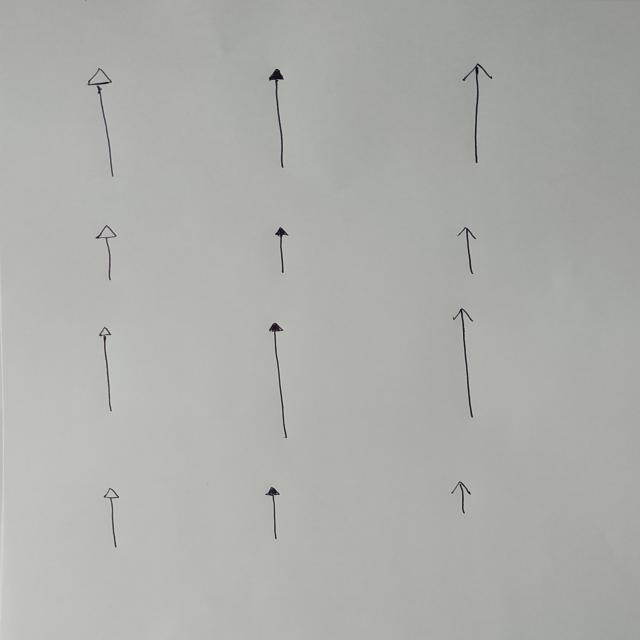arrow_line_up: (84, 64, 124, 180), (458, 62, 496, 166), (450, 306, 482, 421), (266, 321, 296, 442), (263, 66, 293, 169), (95, 324, 120, 414), (92, 222, 122, 282), (455, 225, 483, 277), (101, 486, 122, 550), (263, 484, 282, 542), (272, 224, 292, 274), (447, 480, 474, 514)
